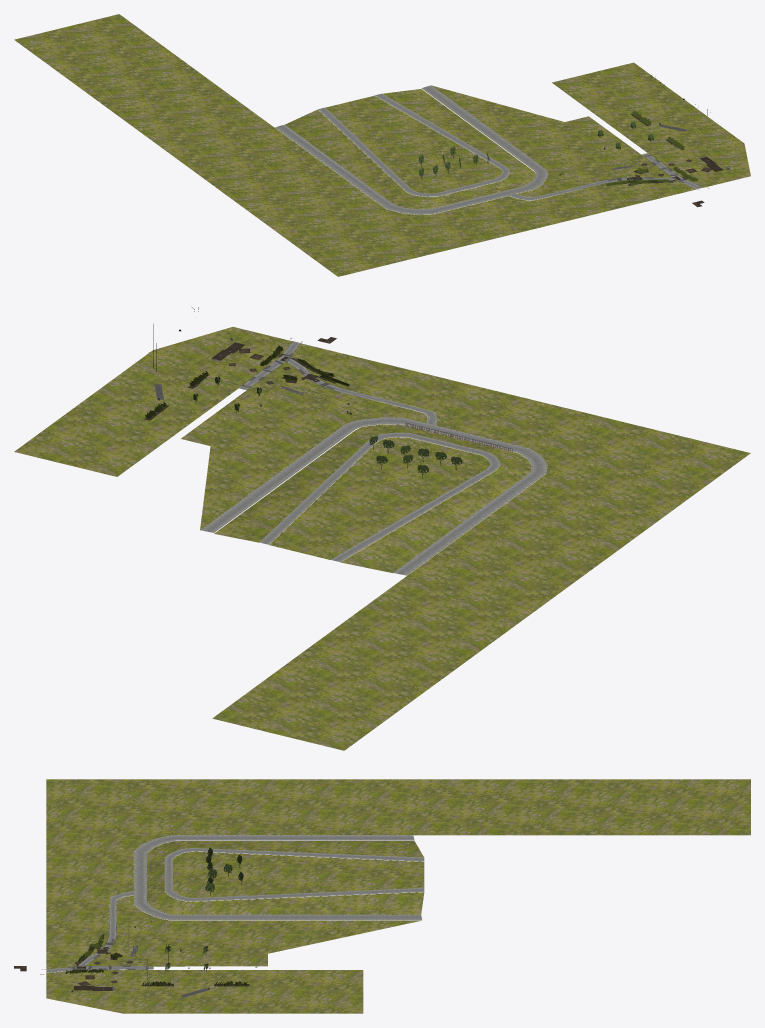
Rendered from 00_03_outside_university_ground.dae.
The picture shows the model from 3 angles, top to bottom: view 1: azimuth 30°, elevation 25°; view 2: azimuth 150°, elevation 25°; view 3: azimuth 270°, elevation 25°; orthographic projection. The views are drawn at different scales.
Visible parts, largest first — view 1: polySurface137, polySurface254, polySurface491, polySurface502, polySurface585, polySurface485-Pivot; view 2: polySurface137, polySurface254, polySurface491, polySurface585, polySurface485-Pivot, polySurface502; view 3: polySurface137, polySurface254, polySurface491, polySurface585, polySurface502, polySurface485-Pivot.
Part boxes in pixels (x1,y1,x2,y2): polySurface137: (14, 14, 750, 276); polySurface254: (275, 85, 702, 214); polySurface491: (618, 114, 723, 207); polySurface502: (606, 111, 697, 185); polySurface585: (418, 122, 653, 179); polySurface485-Pivot: (434, 82, 729, 206); polySurface137: (14, 327, 750, 750); polySurface254: (200, 341, 547, 575); polySurface491: (144, 337, 336, 420); polySurface585: (193, 376, 462, 478); polySurface485-Pivot: (149, 307, 512, 451); polySurface502: (145, 345, 349, 418); polySurface137: (46, 779, 750, 1013); polySurface254: (46, 835, 424, 972); polySurface491: (14, 941, 249, 990); polySurface585: (165, 847, 243, 971); polySurface502: (65, 934, 247, 986); polySurface485-Pivot: (40, 907, 257, 992).
Bounding box in the file's own units: 341 × 46.39 × 453.
